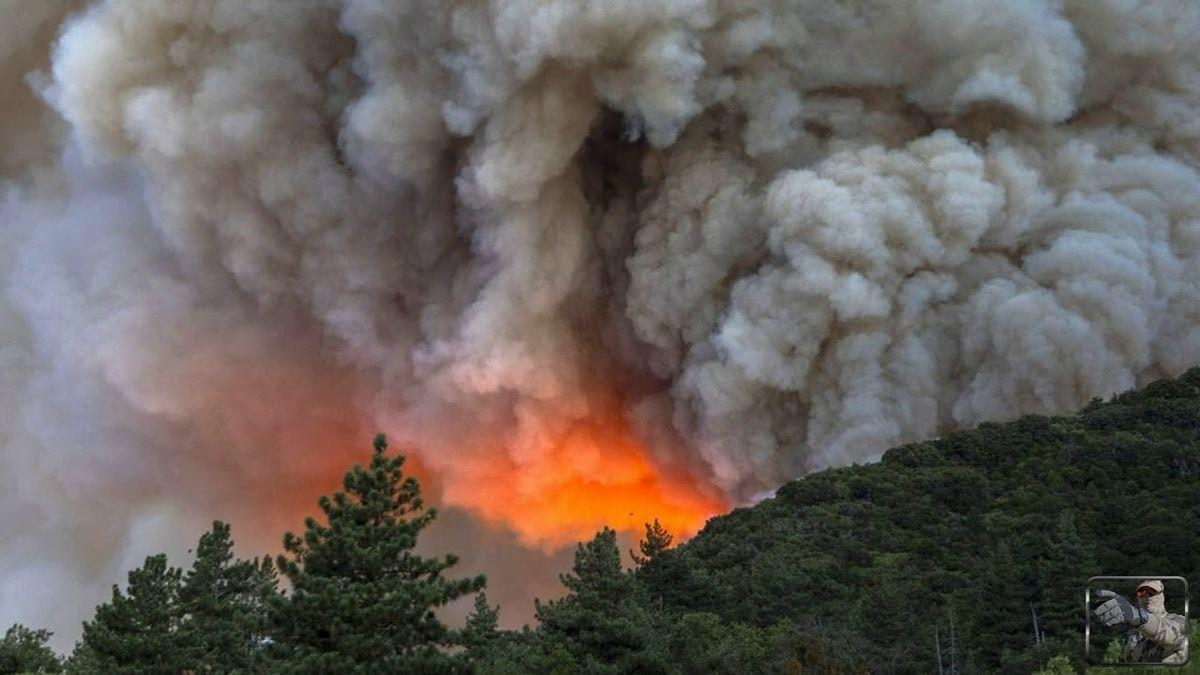smoke: (0, 0, 442, 655), (694, 9, 1177, 522), (352, 0, 750, 599)
